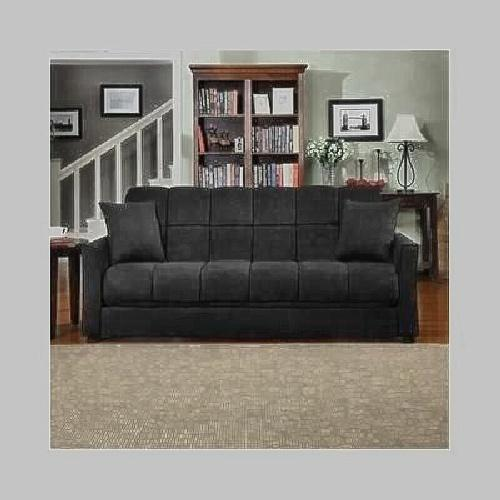sofa: (81, 186, 427, 340)
